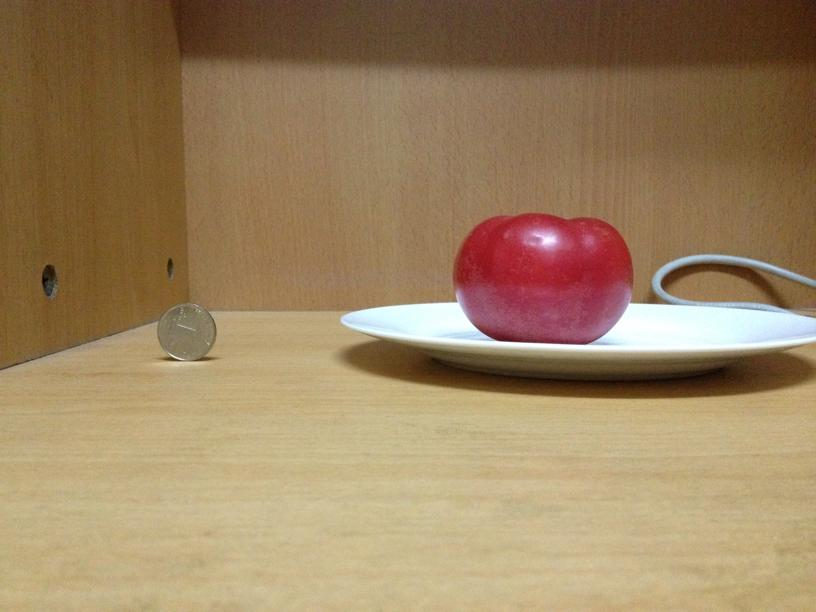coin: (156, 305, 216, 359)
tomato: (444, 209, 634, 344)
